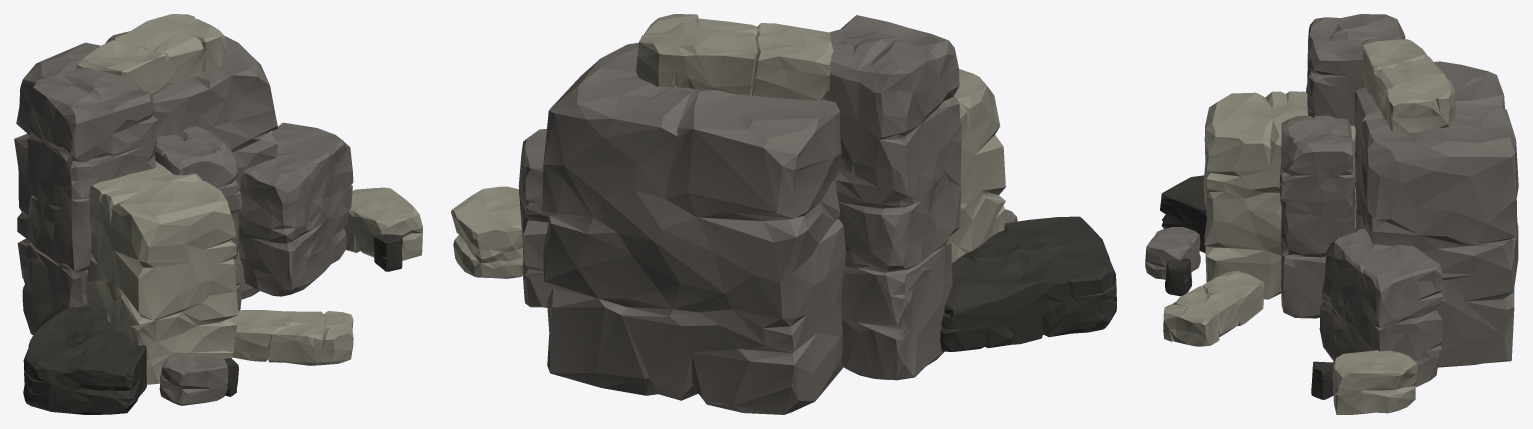
File: pietre.fbx
The picture shows the model from 3 angles, left to right: view 1: azimuth 30°, elevation 25°; view 2: azimuth 150°, elevation 25°; view 3: azimuth 270°, elevation 25°; orthographic projection. The views are drawn at different scales.
Visible parts, largest first — view 1: Cumulo di pietre; view 2: Cumulo di pietre; view 3: Cumulo di pietre.
Boxes of the visible parts, box(x1,y1,x2,y2) form: Cumulo di pietre: box(14, 14, 422, 414); Cumulo di pietre: box(451, 14, 1116, 414); Cumulo di pietre: box(1145, 14, 1518, 414).
Bounding box in the file's own units: 198 × 112 × 148.
